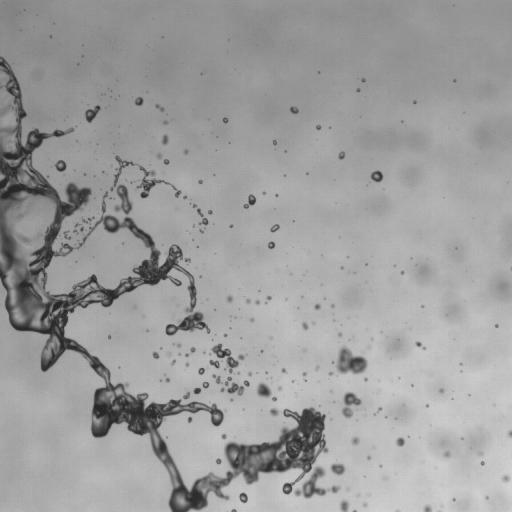droplet: (137, 165, 181, 198), (210, 343, 245, 373), (333, 345, 367, 374), (221, 376, 249, 395), (341, 392, 361, 418), (256, 382, 276, 401), (84, 105, 100, 122), (330, 462, 345, 475), (243, 194, 255, 208), (370, 171, 382, 182), (55, 160, 66, 171), (73, 223, 85, 233), (340, 499, 349, 511), (209, 360, 220, 368), (239, 492, 247, 502), (134, 97, 143, 105), (270, 224, 279, 232), (396, 437, 404, 446), (501, 474, 510, 482), (162, 134, 168, 145), (423, 504, 432, 511), (290, 106, 298, 113), (338, 151, 345, 159), (63, 231, 70, 239), (351, 437, 359, 444), (198, 367, 205, 374), (268, 241, 274, 249), (193, 388, 201, 394), (302, 322, 308, 329), (152, 351, 158, 358), (202, 382, 209, 388), (183, 392, 189, 399), (444, 451, 450, 458), (227, 295, 232, 302), (222, 117, 228, 122), (163, 159, 169, 164), (314, 304, 320, 309), (216, 458, 221, 464), (507, 430, 511, 437), (266, 296, 271, 301), (281, 368, 286, 373), (187, 417, 192, 422), (221, 434, 226, 439), (157, 153, 161, 159), (316, 125, 321, 129), (246, 298, 250, 303), (175, 343, 180, 347), (171, 360, 175, 365), (165, 377, 169, 382), (439, 388, 443, 393), (361, 78, 365, 82), (163, 120, 167, 124), (184, 149, 188, 153), (208, 210, 212, 214), (255, 300, 259, 304), (166, 352, 170, 356), (315, 366, 319, 370), (329, 371, 333, 375), (377, 407, 381, 411), (480, 461, 484, 465), (363, 502, 367, 506), (273, 140, 276, 144), (198, 180, 202, 183), (250, 318, 254, 321), (185, 363, 189, 366), (248, 372, 251, 376), (303, 372, 306, 376), (278, 386, 281, 390), (478, 452, 482, 455), (231, 509, 236, 511), (200, 229, 203, 232), (401, 271, 404, 274), (495, 324, 498, 327), (338, 333, 341, 336), (367, 456, 370, 459), (485, 496, 488, 499), (357, 88, 359, 91), (184, 195, 186, 198), (230, 224, 232, 227), (331, 305, 334, 307), (224, 334, 227, 336), (303, 348, 305, 351), (364, 378, 367, 380), (426, 404, 428, 407), (275, 194, 277, 196), (108, 336, 110, 338), (260, 350, 262, 352)
ligament: (0, 56, 337, 511), (193, 204, 208, 225), (185, 347, 195, 356), (212, 374, 221, 384), (415, 341, 425, 349), (155, 104, 164, 111), (510, 267, 511, 270), (353, 510, 356, 511)
